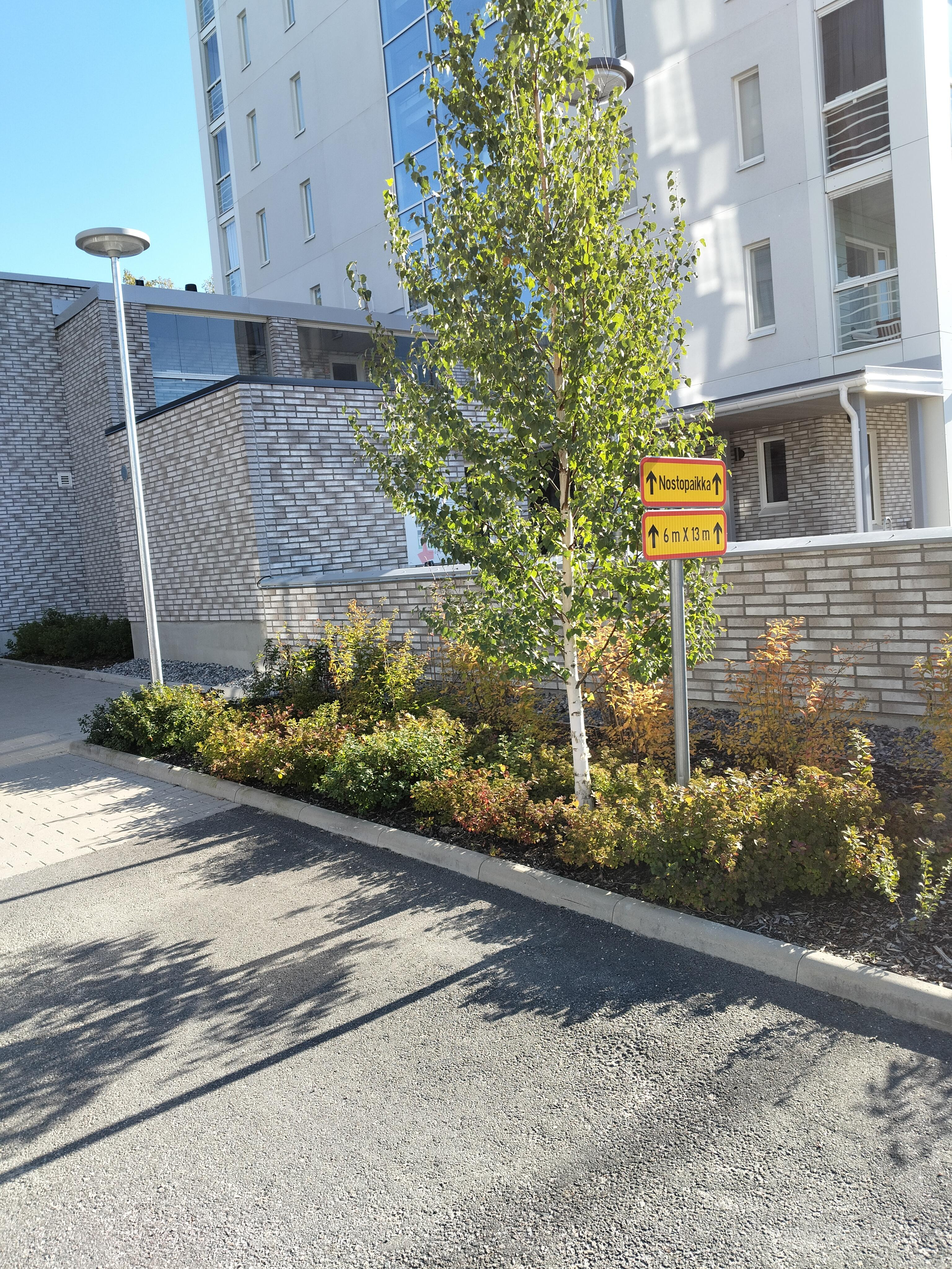Birch: (348, 4, 642, 827)
